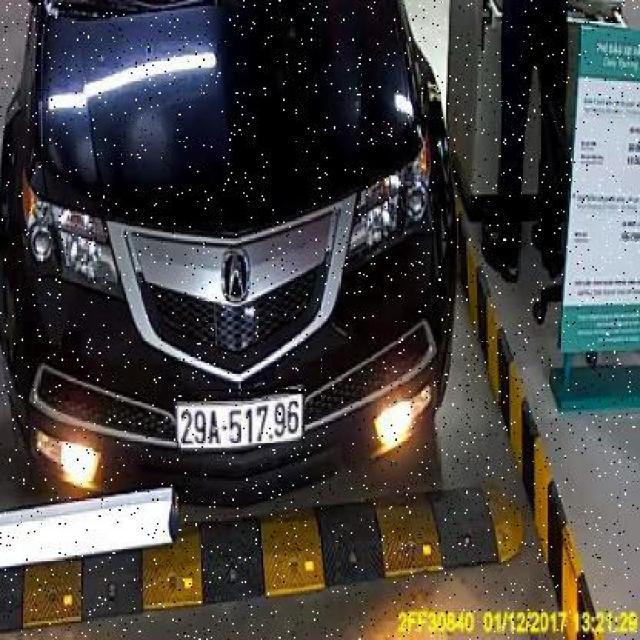number_plate: (170, 389, 304, 443)
